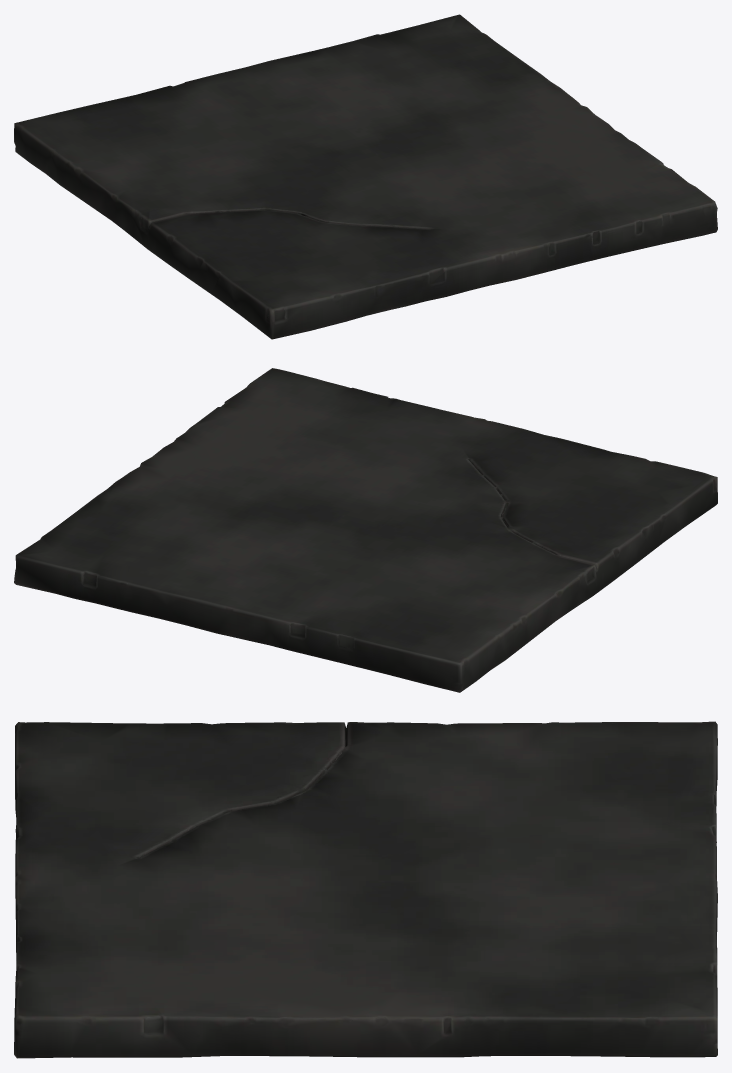
File: slab1-andesite.glb
The picture shows the model from 3 angles, top to bottom: view 1: azimuth 30°, elevation 25°; view 2: azimuth 150°, elevation 25°; view 3: azimuth 270°, elevation 25°; orthographic projection. The views are drawn at different scales.
Visible parts, largest first — view 1: slab1; view 2: slab1; view 3: slab1.
Boxes of the visible parts, <box> form: slab1: <box>14,14,717,339</box>; slab1: <box>14,368,717,692</box>; slab1: <box>14,721,717,1058</box>.
Bounding box in the file's own units: 0.9905 × 0.0649 × 0.99.
1 material, 1 textured.
